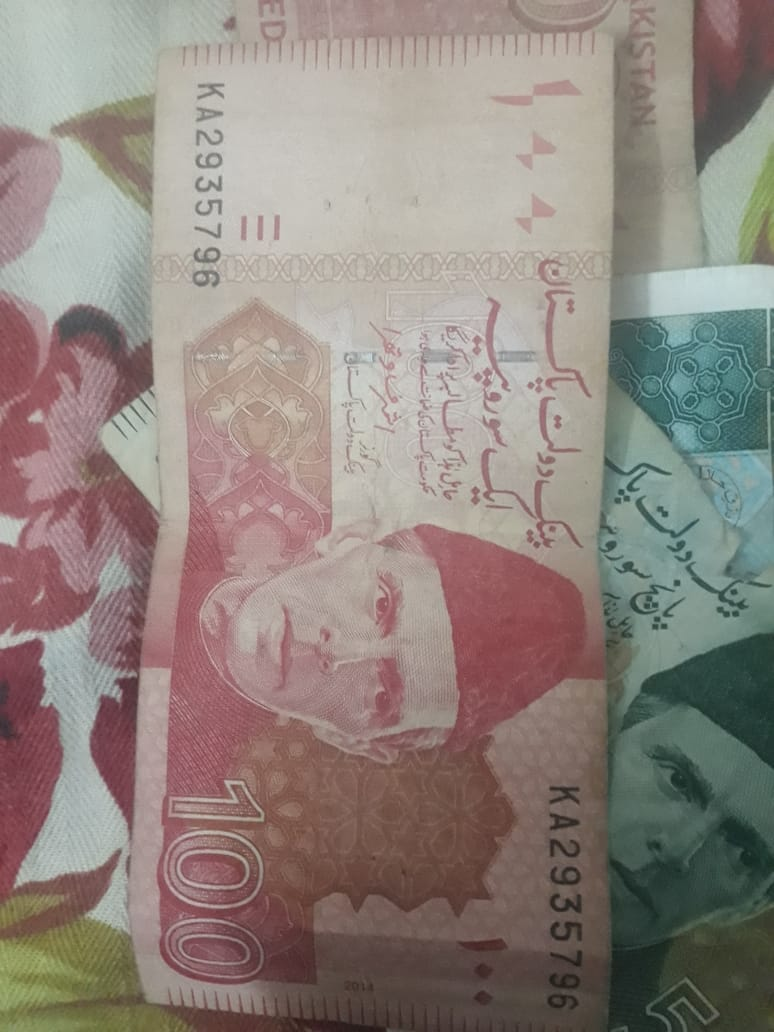100 rupee: (130, 31, 613, 1032)
